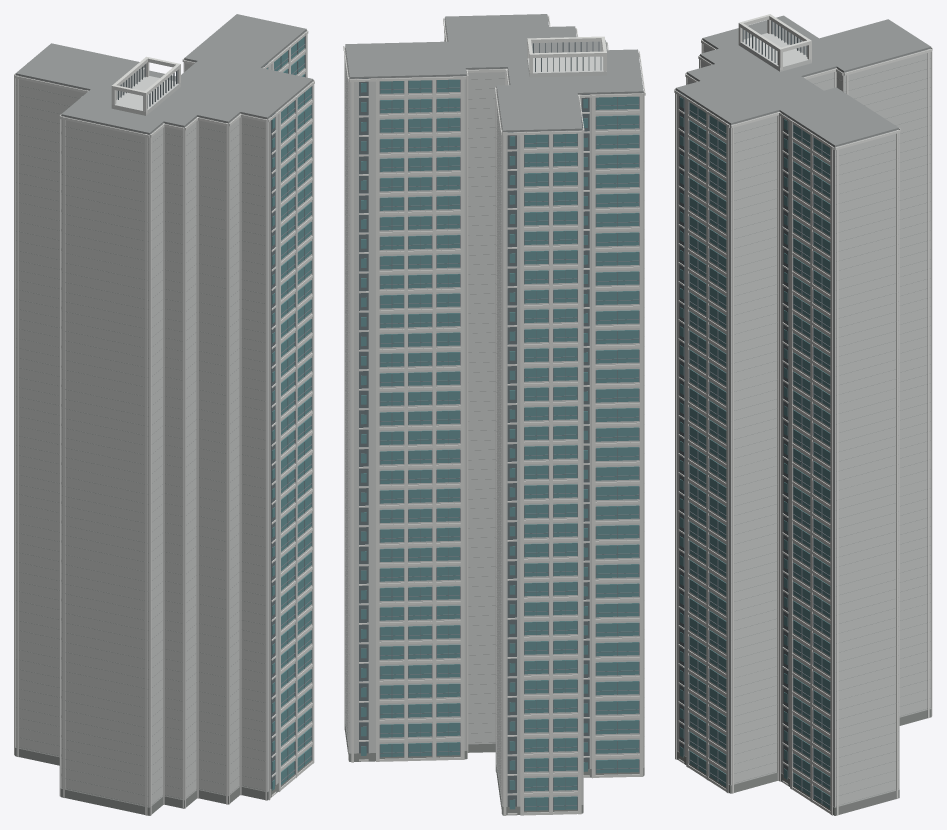
Rendered from bespoke-banpo-riche-108.glb.
The picture shows the model from 3 angles, left to right: view 1: azimuth 30°, elevation 25°; view 2: azimuth 150°, elevation 25°; view 3: azimuth 270°, elevation 25°; orthographic projection. The views are drawn at different scales.
Visible parts, largest first — view 1: Riche108_editable_Riche108_light_grey_solid_wall, Riche108_editable_Riche108_broad_white_facade_frames, Riche108_editable_Riche108_modest_grey_flat_roof_caps, Riche108_editable_Riche108_teal_rectangular_grouped_windows, Riche108_editable_Riche108_dark_horizontal_spandrels_and_mul, Riche108_editable_Riche108_dark_recessed_service_strip, Riche108_editable_Riche108_muted_ground_wall; view 2: Riche108_editable_Riche108_teal_rectangular_grouped_windows, Riche108_editable_Riche108_light_grey_solid_wall, Riche108_editable_Riche108_broad_white_facade_frames, Riche108_editable_Riche108_modest_grey_flat_roof_caps, Riche108_editable_Riche108_dark_horizontal_spandrels_and_mul, Riche108_editable_Riche108_dark_recessed_service_strip, Riche108_editable_Riche108_muted_ground_wall; view 3: Riche108_editable_Riche108_light_grey_solid_wall, Riche108_editable_Riche108_broad_white_facade_frames, Riche108_editable_Riche108_teal_rectangular_grouped_windows, Riche108_editable_Riche108_modest_grey_flat_roof_caps, Riche108_editable_Riche108_dark_horizontal_spandrels_and_mul, Riche108_editable_Riche108_dark_recessed_service_strip, Riche108_editable_Riche108_muted_ground_wall.
Boxes of the visible parts, <box> form: Riche108_editable_Riche108_light_grey_solid_wall: <box>15,31,313,807</box>; Riche108_editable_Riche108_broad_white_facade_frames: <box>14,30,314,815</box>; Riche108_editable_Riche108_modest_grey_flat_roof_caps: <box>15,14,313,805</box>; Riche108_editable_Riche108_teal_rectangular_grouped_windows: <box>267,37,311,790</box>; Riche108_editable_Riche108_dark_horizontal_spandrels_and_mul: <box>274,36,312,781</box>; Riche108_editable_Riche108_dark_recessed_service_strip: <box>118,63,275,788</box>; Riche108_editable_Riche108_muted_ground_wall: <box>15,747,311,815</box>; Riche108_editable_Riche108_teal_rectangular_grouped_windows: <box>361,79,638,810</box>; Riche108_editable_Riche108_light_grey_solid_wall: <box>345,20,643,806</box>; Riche108_editable_Riche108_broad_white_facade_frames: <box>343,15,645,815</box>; Riche108_editable_Riche108_modest_grey_flat_roof_caps: <box>345,14,644,798</box>; Riche108_editable_Riche108_dark_horizontal_spandrels_and_mul: <box>379,79,639,810</box>; Riche108_editable_Riche108_dark_recessed_service_strip: <box>359,42,601,806</box>; Riche108_editable_Riche108_muted_ground_wall: <box>345,722,644,815</box>; Riche108_editable_Riche108_light_grey_solid_wall: <box>676,33,931,807</box>; Riche108_editable_Riche108_broad_white_facade_frames: <box>674,14,932,815</box>; Riche108_editable_Riche108_teal_rectangular_grouped_windows: <box>680,97,830,808</box>; Riche108_editable_Riche108_modest_grey_flat_roof_caps: <box>675,15,931,806</box>; Riche108_editable_Riche108_dark_horizontal_spandrels_and_mul: <box>688,102,830,805</box>; Riche108_editable_Riche108_dark_recessed_service_strip: <box>679,21,807,777</box>; Riche108_editable_Riche108_muted_ground_wall: <box>677,708,931,815</box>.
Bounding box in the file's own units: 40.94 × 101 × 34.07.
